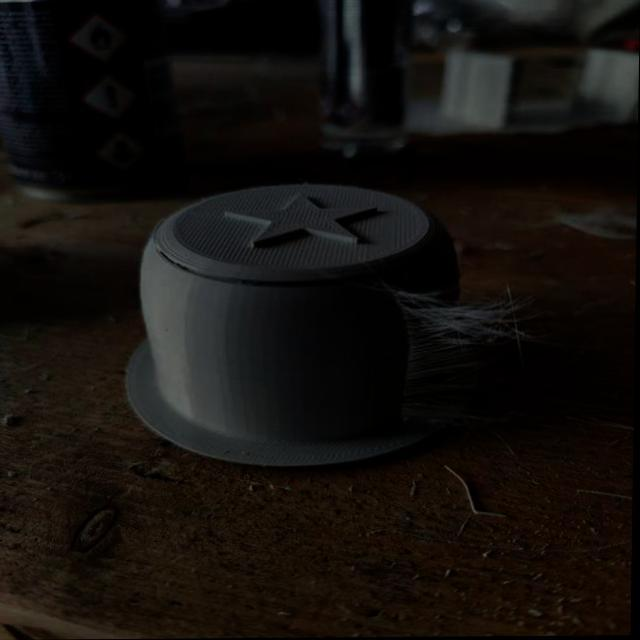stringing: (405, 290, 530, 390), (408, 398, 518, 432)
